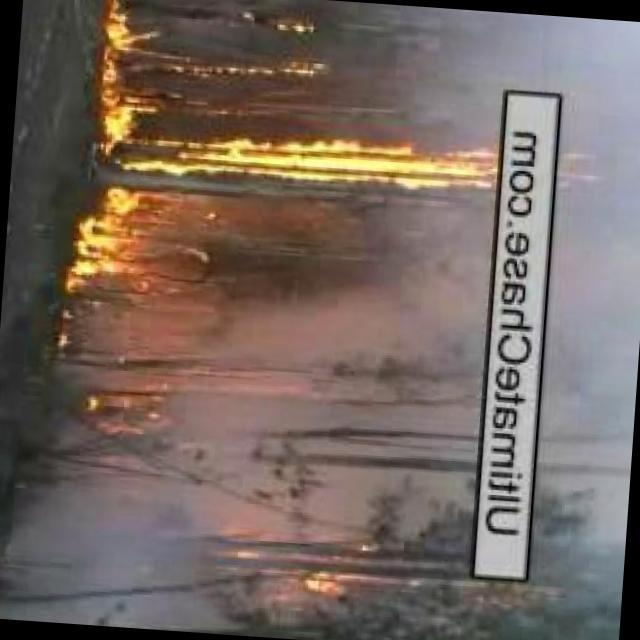Fire: (92, 95, 612, 201), (96, 1, 318, 82), (296, 517, 456, 622), (61, 184, 187, 306), (59, 361, 183, 453)
